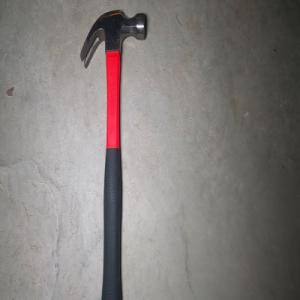Hammer: (79, 8, 146, 300)
